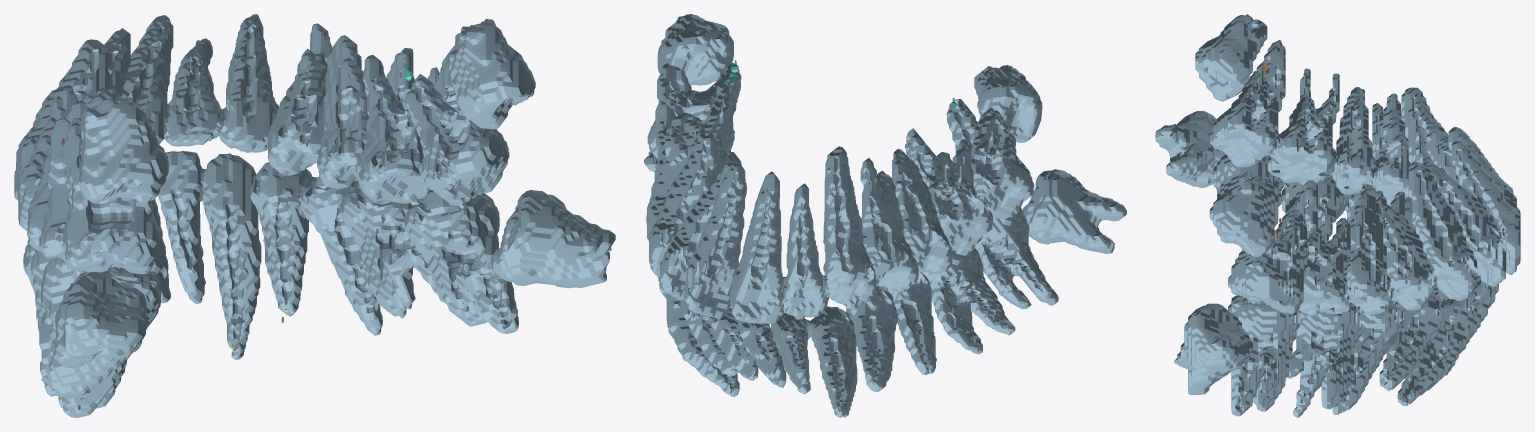
The model's file is STS25_Train_Labeled_0011.glb.
3 renders of one model, left to right at view 1: azimuth 30°, elevation 25°; view 2: azimuth 150°, elevation 25°; view 3: azimuth 270°, elevation 25°, orthographic. The views are drawn at different scales.
Visible parts, largest first — view 1: teeth__1, teeth__12; view 2: teeth__1, teeth__12; view 3: teeth__1, teeth__12.
Part boxes in pixels (x1,y1,x2,y2): teeth__1: (14,14,518,417); teeth__12: (47,19,615,398); teeth__1: (646,63,1058,417); teeth__12: (644,14,1126,253); teeth__1: (1209,40,1520,417); teeth__12: (1155,14,1281,394).
Size of the model in its own units: 84.55 by 55.15 by 60.6.
